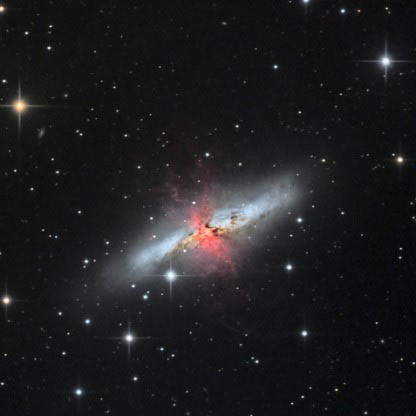Messier 82: (66, 142, 325, 319)
